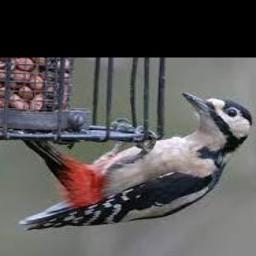Woodpecker: (19, 91, 253, 230)
